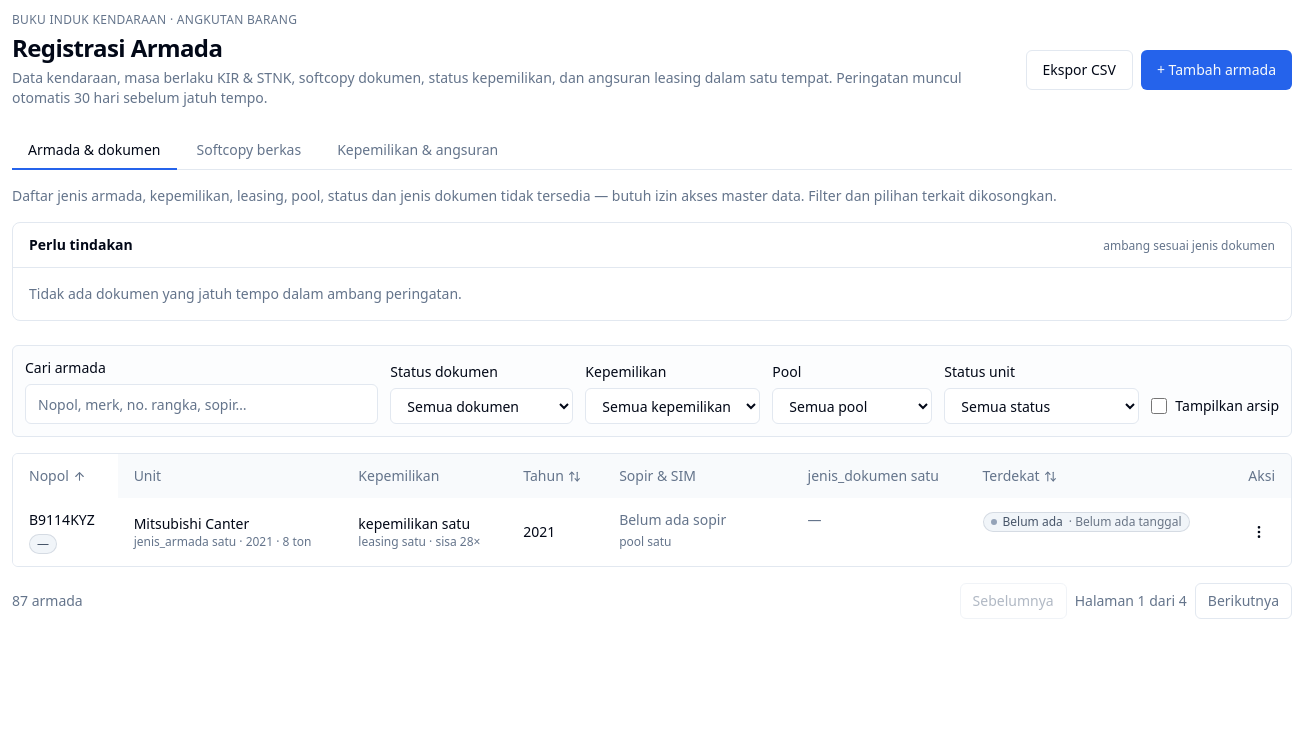
Test: FleetVehiclesPage › moves to the next page
Click the button "Berikutnya" at (1243, 601), box [1195,583,1292,619]
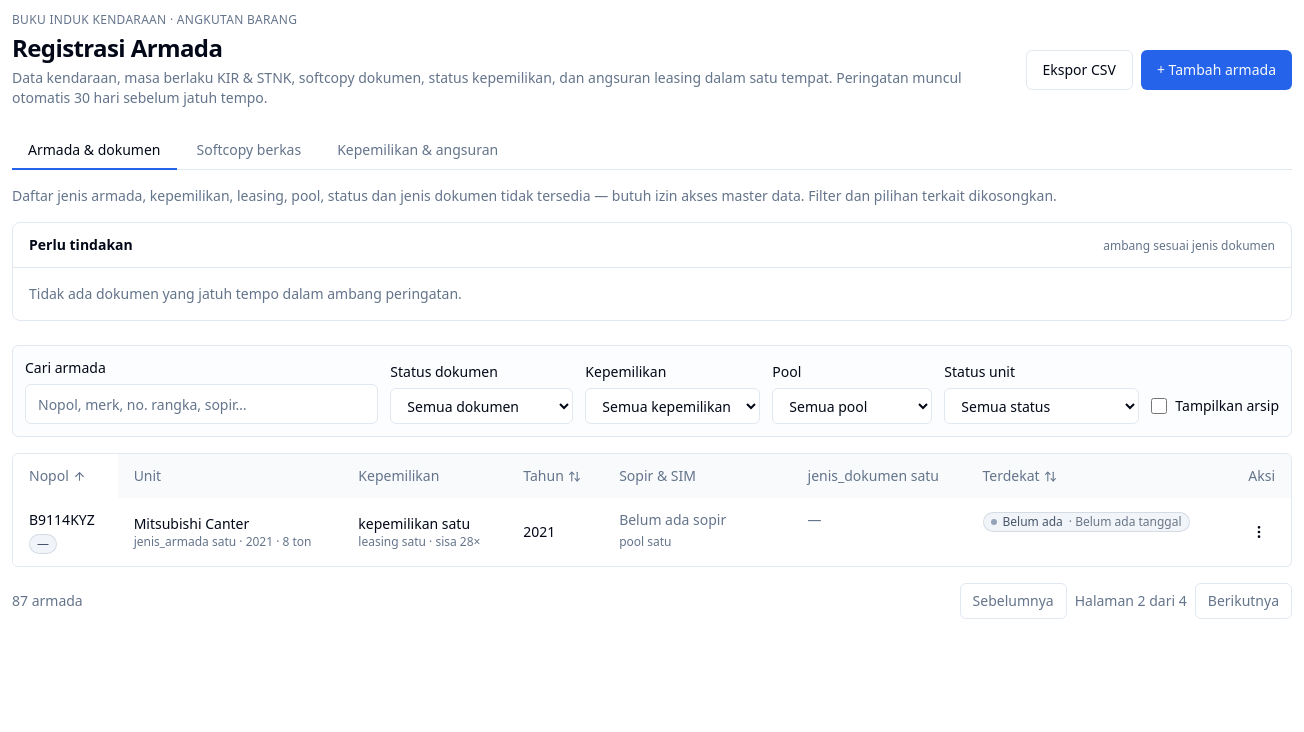
Check: the text "Halaman 2 dari 4" is shown, box [1075,591,1187,611]
